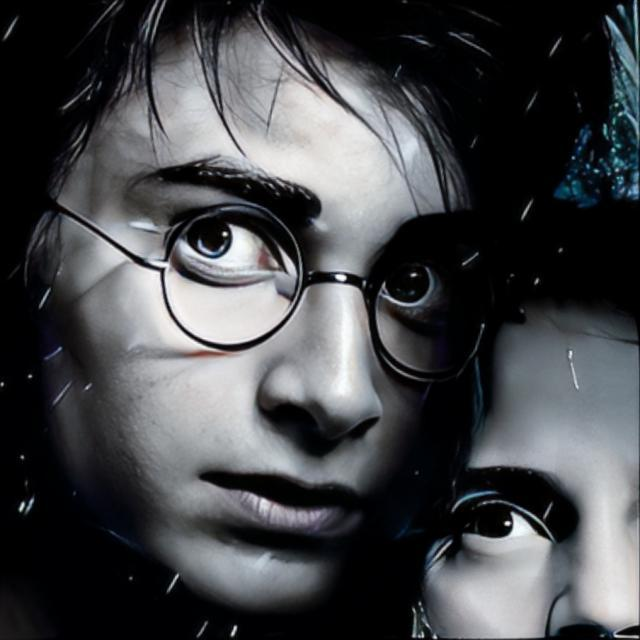fear: (54, 32, 474, 619), (426, 307, 640, 640)
